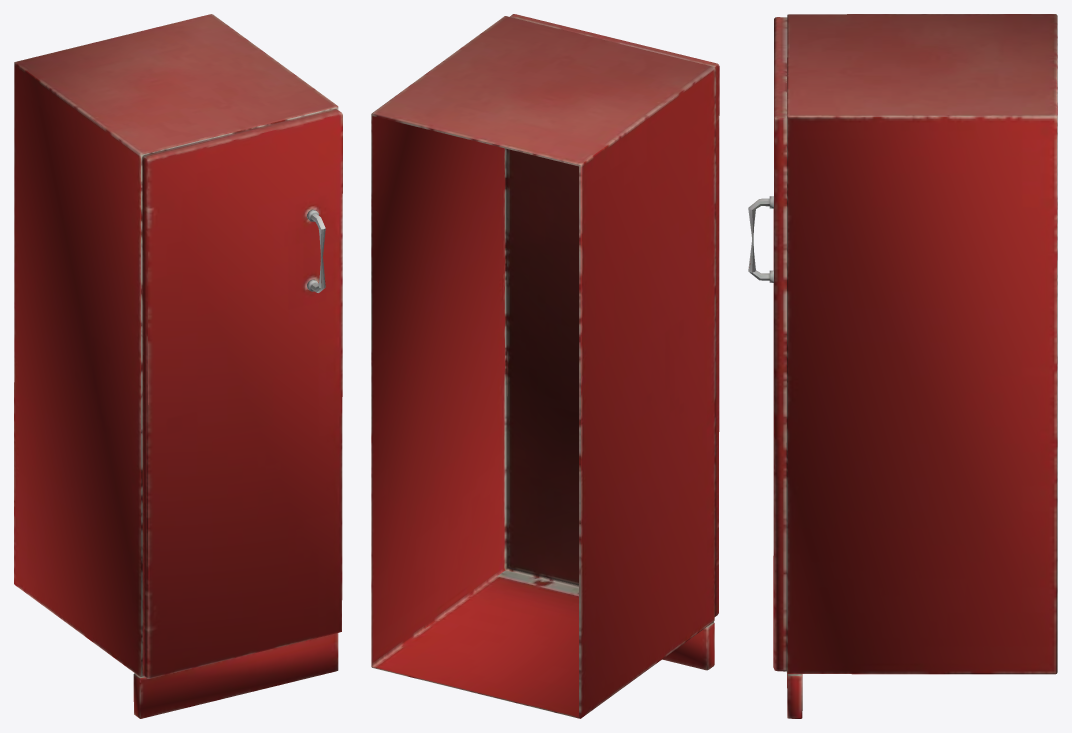
File: kit_upper_30_red-low.glb
3 views of the same model, side by side, from view 1: azimuth 30°, elevation 25°; view 2: azimuth 150°, elevation 25°; view 3: azimuth 270°, elevation 25° (orthographic). The views are drawn at different scales.
Visible parts, largest first — view 1: kit_upper_30_red-low; view 2: kit_upper_30_red-low; view 3: kit_upper_30_red-low.
Boxes of the visible parts, x1,y1,x2,y2 form: kit_upper_30_red-low: (14, 14, 342, 718); kit_upper_30_red-low: (371, 14, 719, 718); kit_upper_30_red-low: (748, 14, 1057, 718).
Size of the model in its own units: 0.298 by 0.81 by 0.3768.
Materials: 1 (1 with a texture image).
